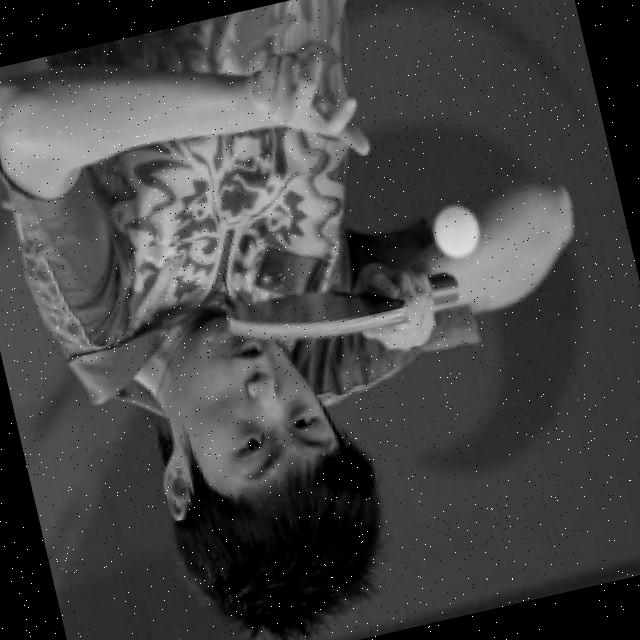ping-pong-ball: (427, 200, 484, 262)
